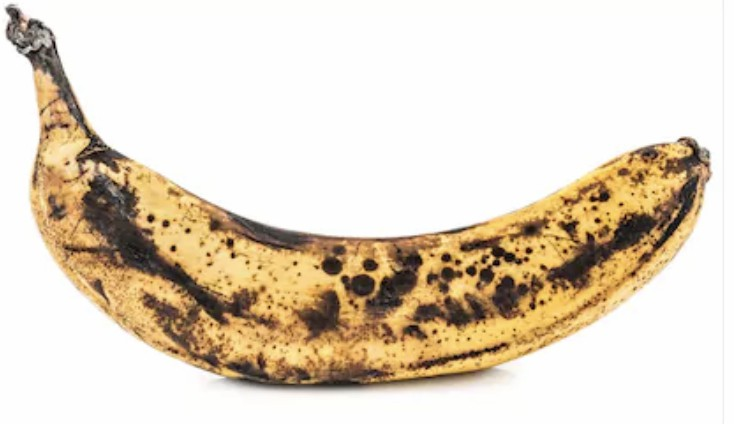rotten_banana: (4, 4, 713, 387)
